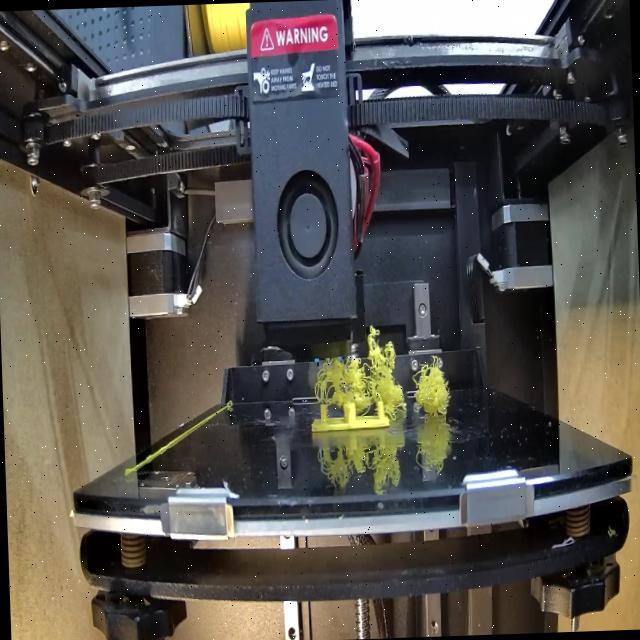spaghetti: (312, 321, 404, 416), (409, 350, 457, 419)
